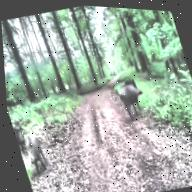boar: (103, 67, 159, 121), (20, 118, 62, 189), (8, 109, 33, 157)
